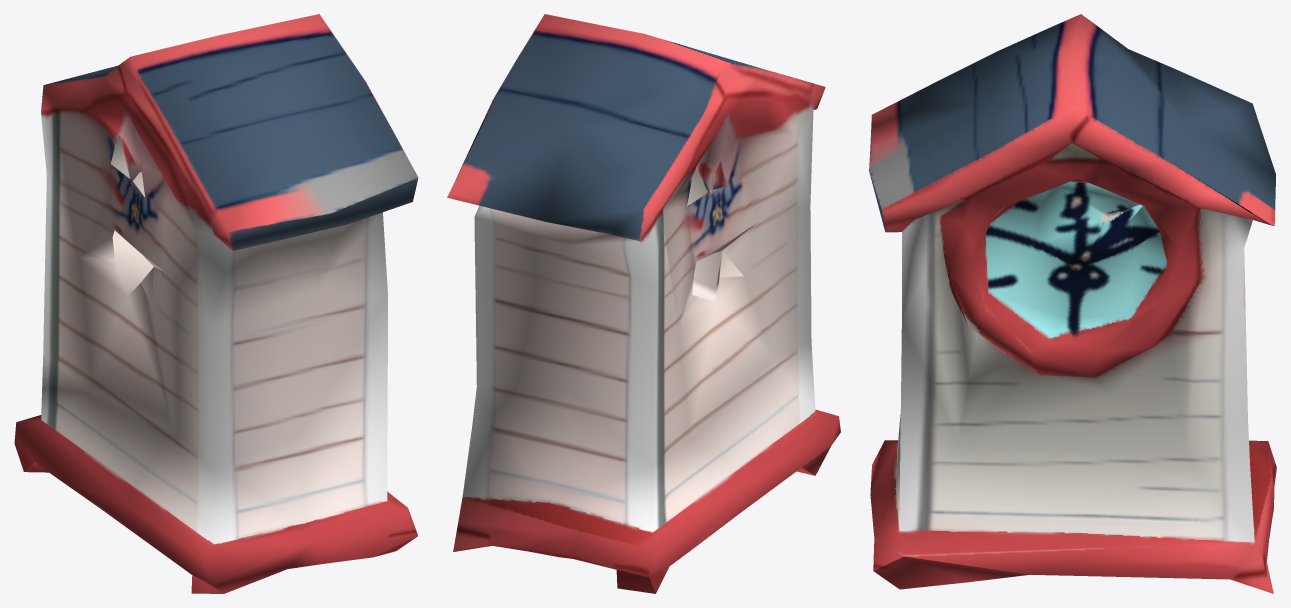
The model's file is beachhut-tide-clock.glb.
3 renders of one model, left to right at view 1: azimuth 30°, elevation 25°; view 2: azimuth 150°, elevation 25°; view 3: azimuth 270°, elevation 25°, orthographic. The views are drawn at different scales.
Visible parts, largest first — view 1: geometry_0.001; view 2: geometry_0.001; view 3: geometry_0.001.
Boxes of the visible parts, x1,y1,x2,y2 form: geometry_0.001: (14,14,418,593); geometry_0.001: (447,14,840,593); geometry_0.001: (869,14,1276,593).
Size of the model in its own units: 0.4741 by 0.9992 by 0.7484.
1 material, 1 textured.
